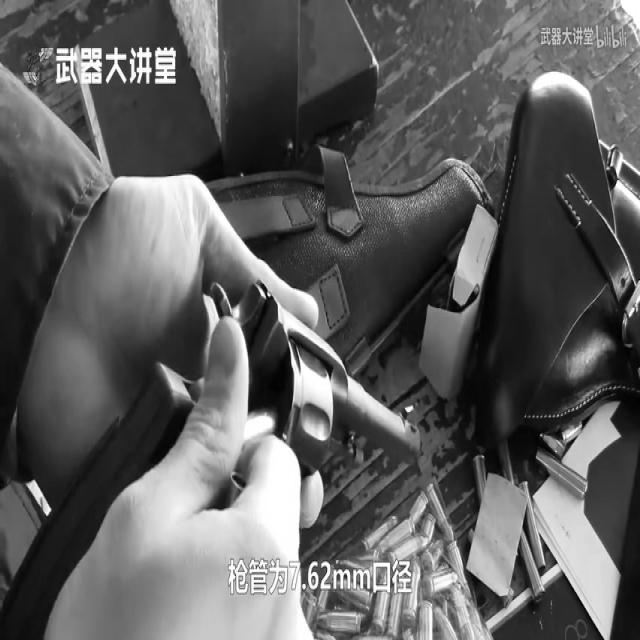Short-Gun: (0, 223, 455, 639)
